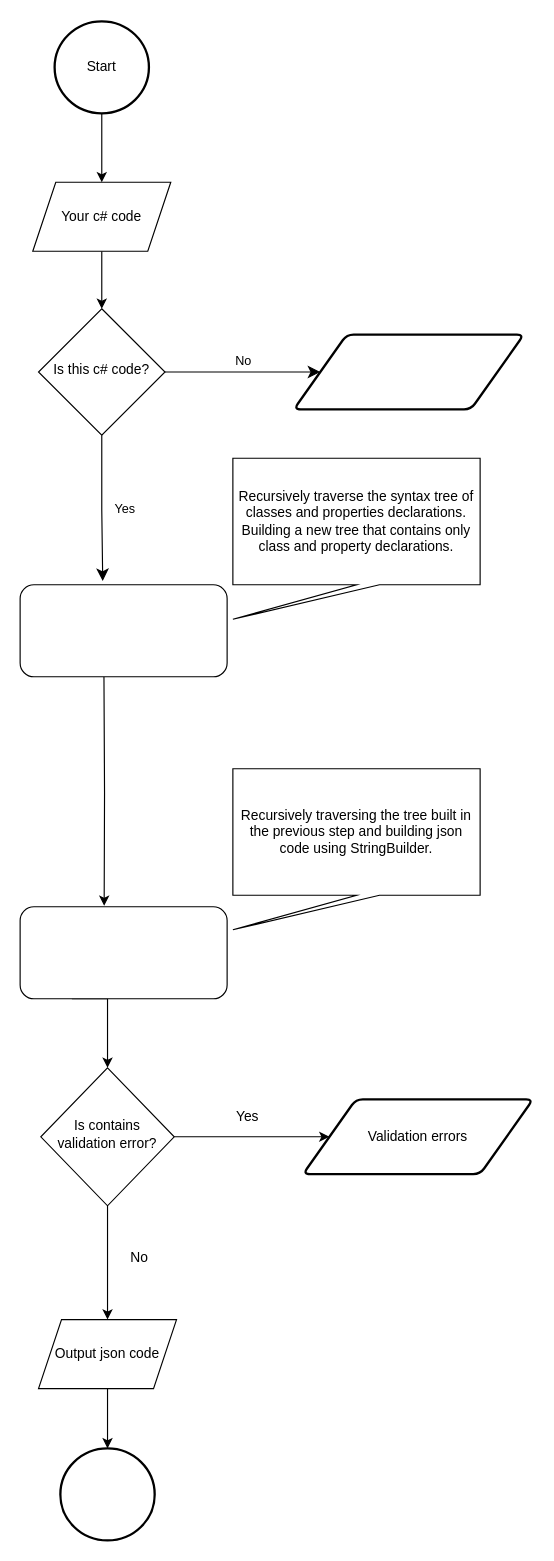
Image size: 554x1561. Some labels were removed from this diagram. Here are the shapes that lost their labels. From the top down, the box of each, then its label:
(292, 333, 524, 410): Your input code is invalid
(19, 584, 227, 677): Interface ICodeAnalyzer.cs Implementation CSharpCodeAnalyzer.cs
(19, 906, 227, 999): Interface IJsonCodeWriter.cs Implementation CSharpJsonCodeWriter.cs
(59, 1447, 155, 1541): End
